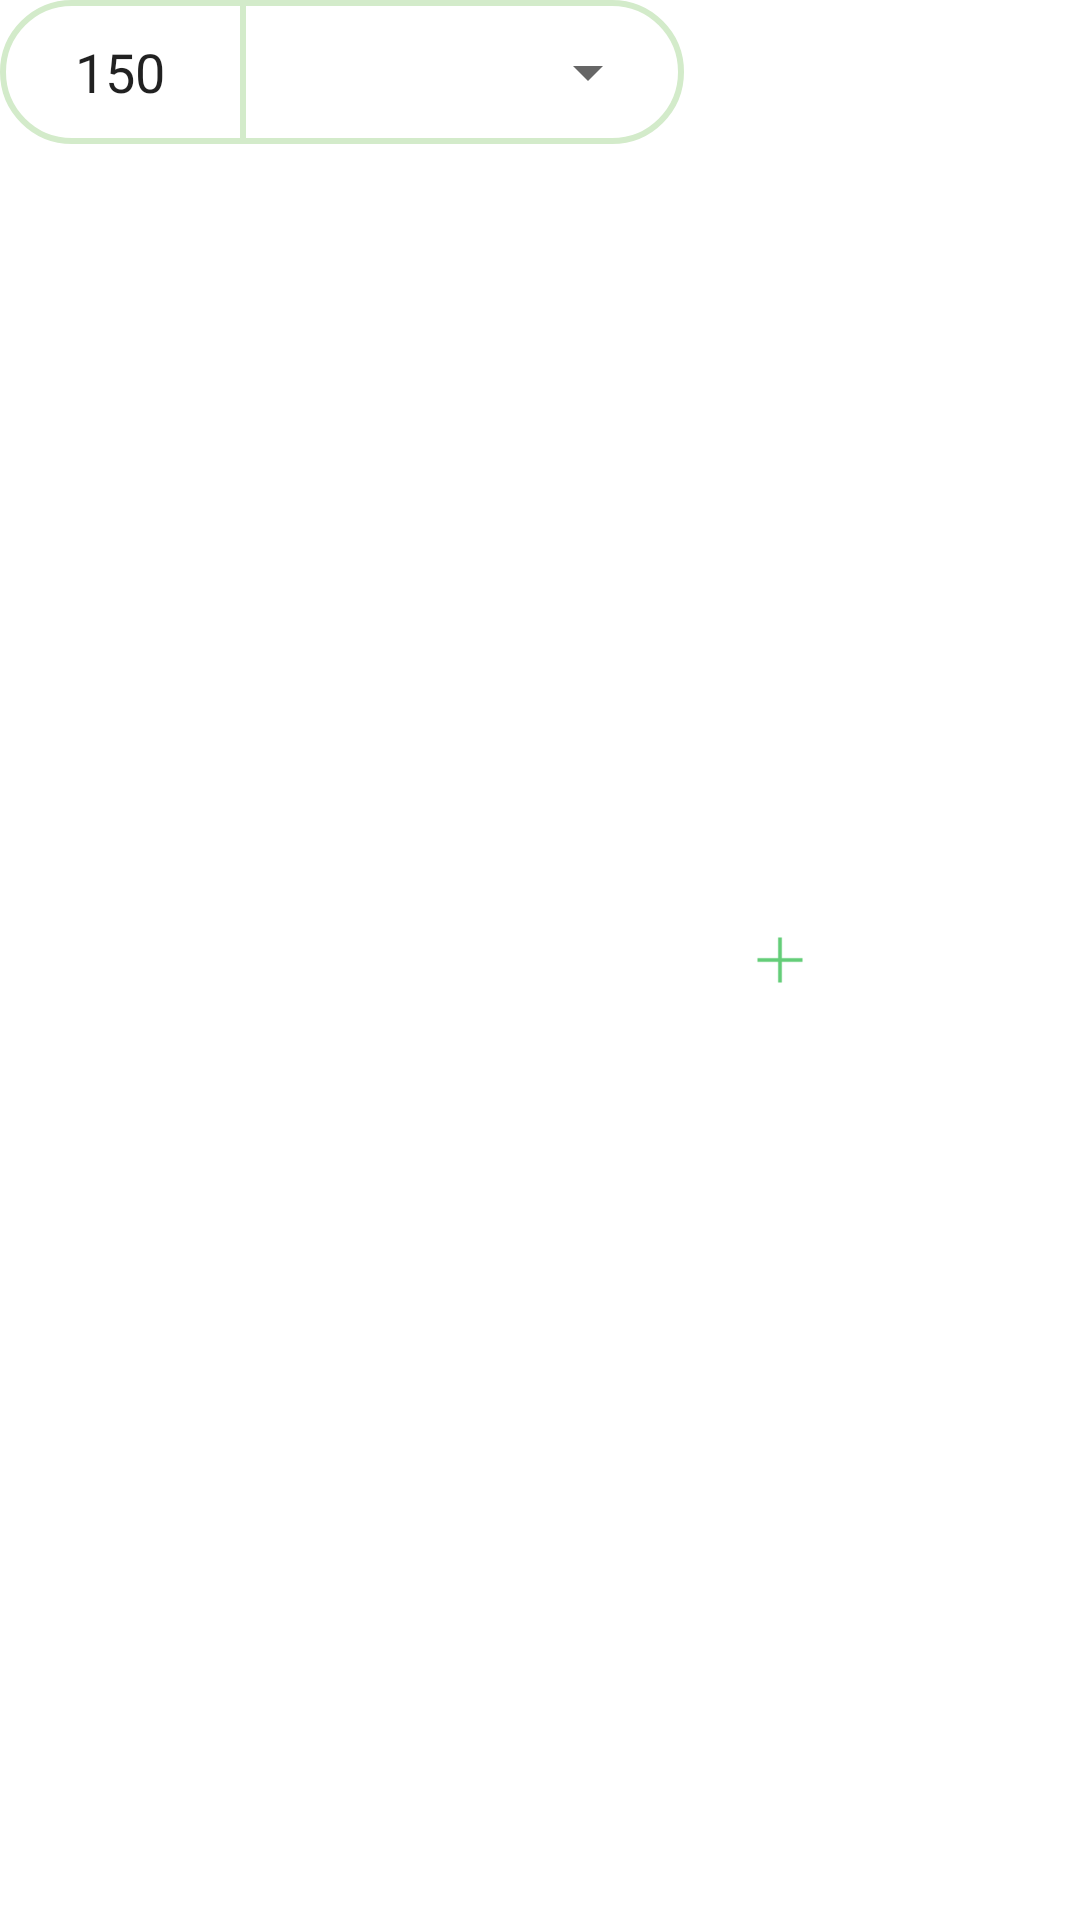

Locate icon controls on the screen. Image size 1080 × 1920, boxes as (left=x1, top=y1, right=x2, bottom=y2).
plus round: (left=757, top=937, right=803, bottom=983)
